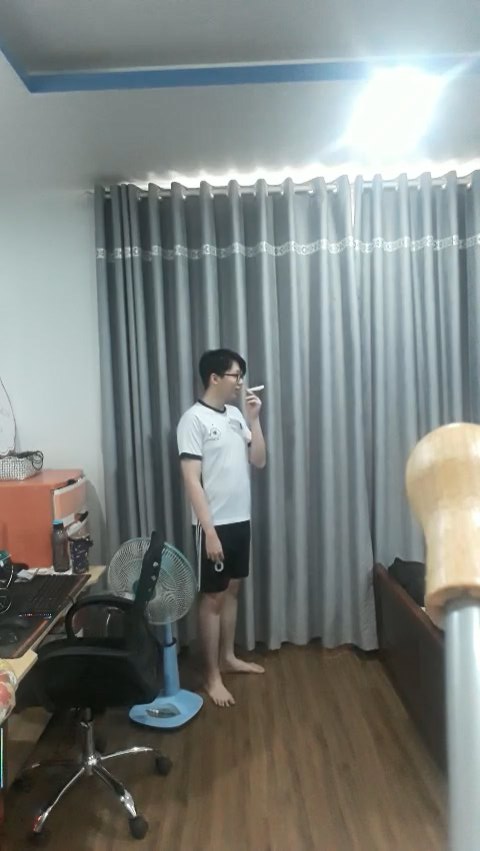cigarette: (247, 386, 264, 392)
person: (177, 336, 265, 652)
